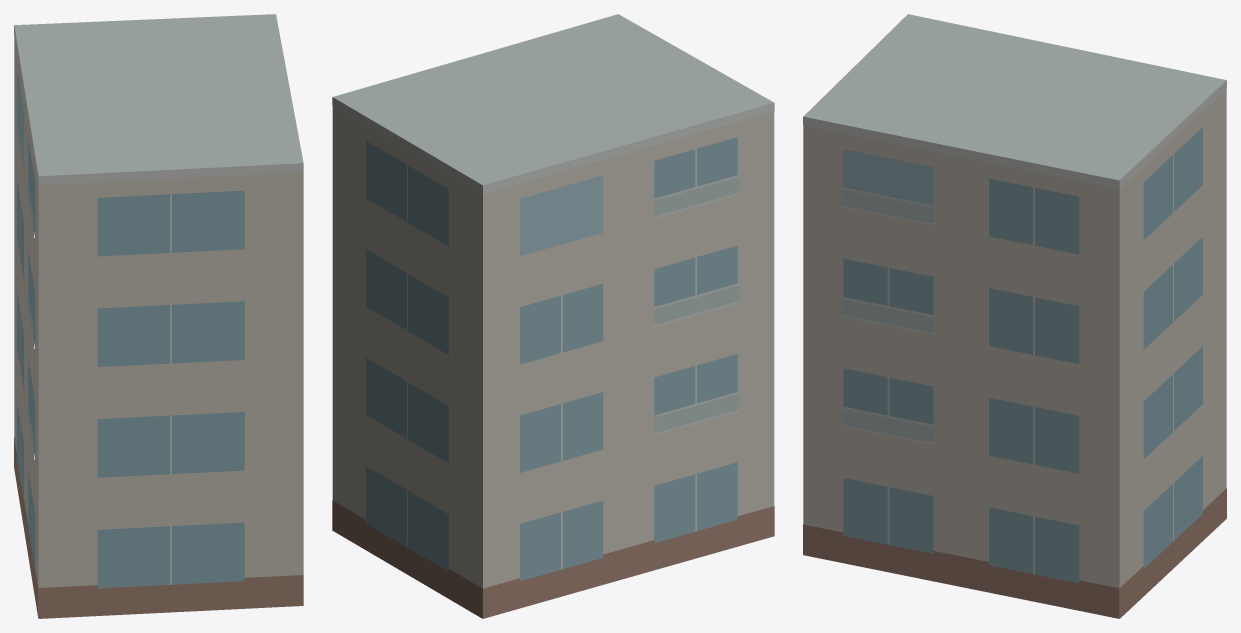
File: survey-upis-32915405.glb
The picture shows the model from 3 angles, left to right: view 1: azimuth 30°, elevation 25°; view 2: azimuth 150°, elevation 25°; view 3: azimuth 270°, elevation 25°; orthographic projection. The views are drawn at different scales.
Parts seen in each view (by area): view 1: survey-upis-32915405.tmp; view 2: survey-upis-32915405.tmp; view 3: survey-upis-32915405.tmp.
Boxes of the visible parts, bbox=[...] form: survey-upis-32915405.tmp: bbox=[14, 14, 303, 618]; survey-upis-32915405.tmp: bbox=[332, 14, 774, 618]; survey-upis-32915405.tmp: bbox=[803, 14, 1226, 618].
Size of the model in its own units: 9.9 by 12.15 by 10.65.
